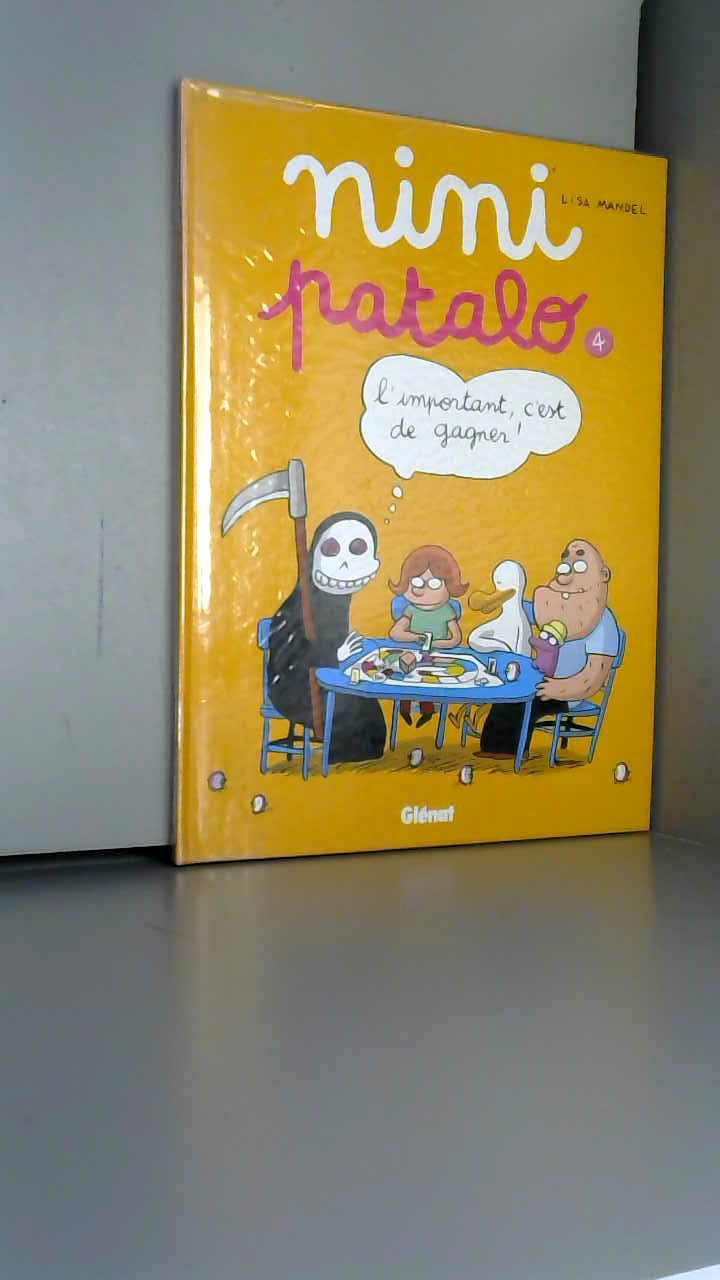book: (150, 50, 720, 929)
